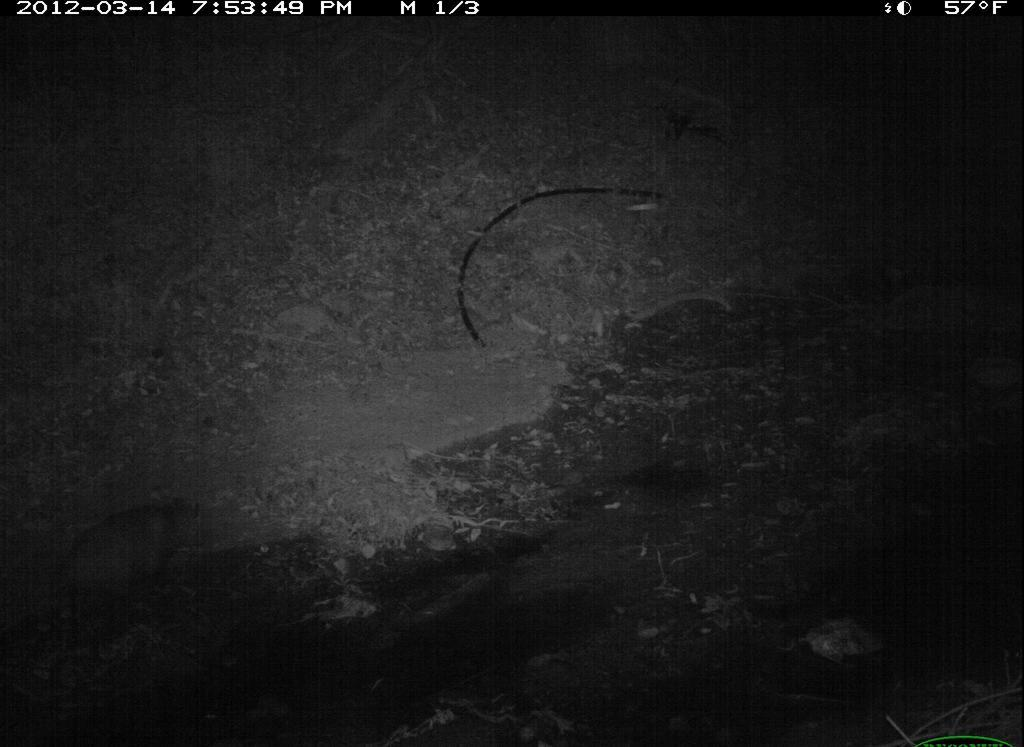opossum: (41, 486, 212, 617)
